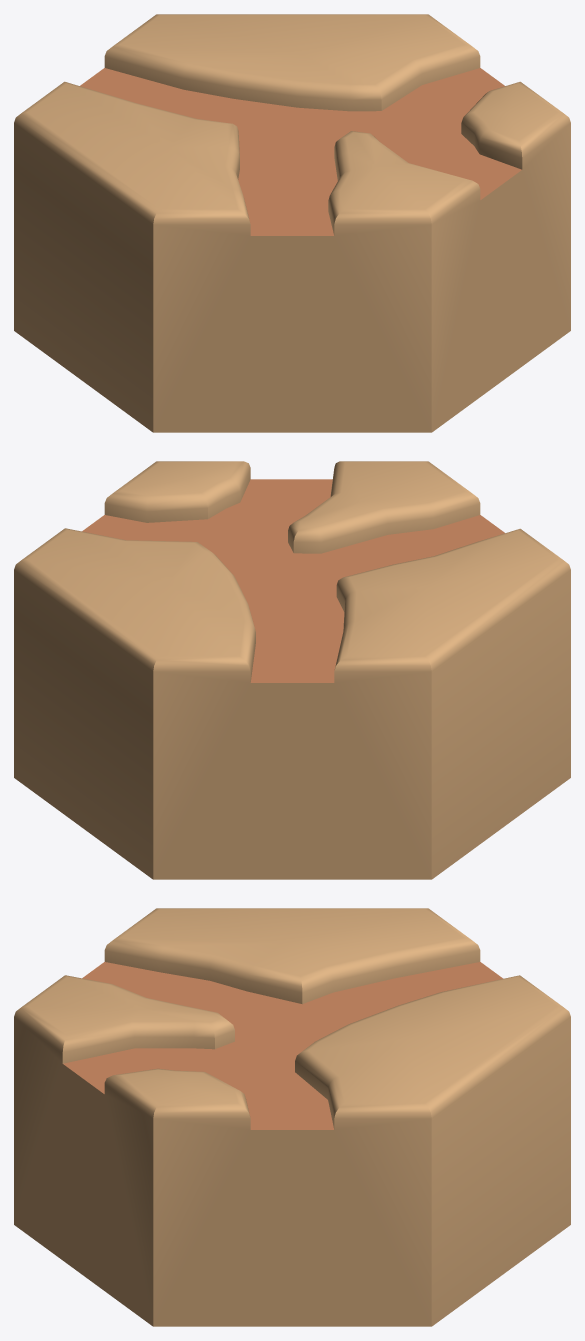
The model's file is hex_sand_roadI.glb.
The picture shows the model from 3 angles, top to bottom: view 1: azimuth 30°, elevation 25°; view 2: azimuth 150°, elevation 25°; view 3: azimuth 270°, elevation 25°; orthographic projection.
Visible parts, largest first — view 1: hex_sand_roadI; view 2: hex_sand_roadI; view 3: hex_sand_roadI.
Boxes of the visible parts, x1=… form: hex_sand_roadI: x1=14, y1=14, x2=570, y2=432; hex_sand_roadI: x1=14, y1=461, x2=570, y2=879; hex_sand_roadI: x1=14, y1=908, x2=570, y2=1326.
Bounding box in the file's own units: 3.82 × 1.91 × 4.41.
